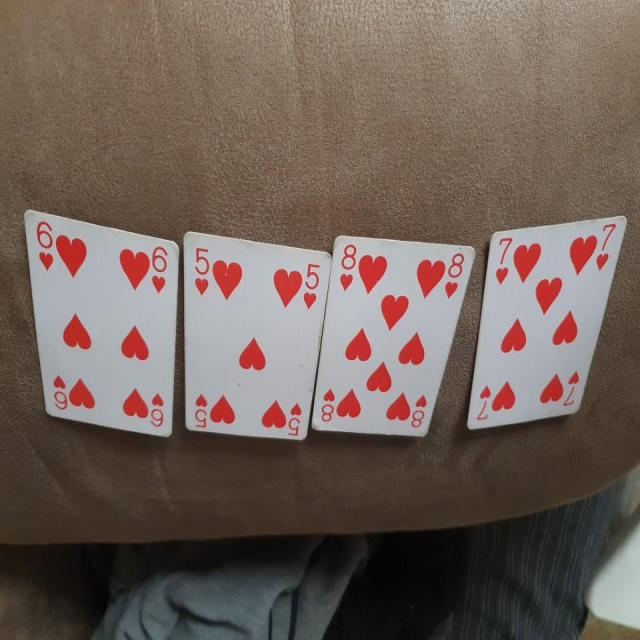5 Hearts: (182, 225, 331, 472)
6 Hearts: (15, 193, 183, 449)
7 Hearts: (462, 216, 630, 436)
8 Hearts: (312, 231, 475, 439)
